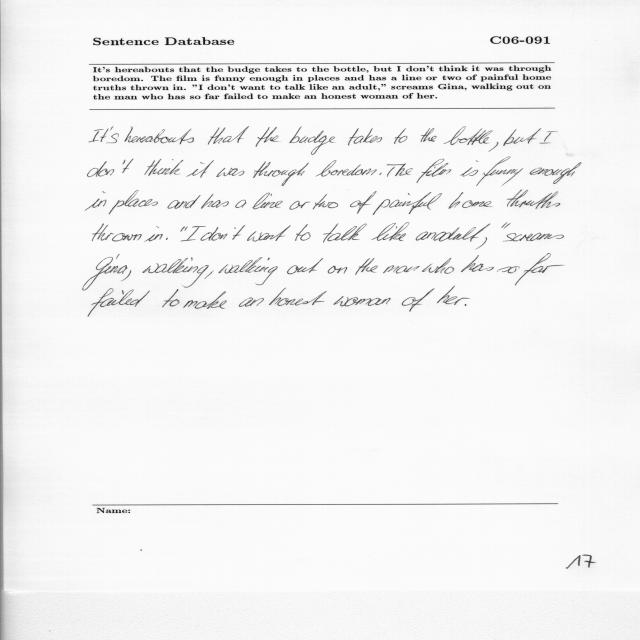word: (142, 258, 278, 288), (88, 288, 150, 317), (83, 254, 128, 290), (515, 254, 565, 286), (373, 192, 442, 215), (253, 161, 309, 186), (476, 157, 523, 186), (289, 126, 335, 155), (124, 127, 194, 145), (109, 190, 158, 214), (530, 162, 581, 184), (507, 189, 560, 209), (315, 160, 377, 177), (269, 288, 327, 306), (434, 224, 491, 242), (444, 126, 493, 145), (92, 224, 142, 242), (417, 159, 452, 183), (323, 224, 367, 243), (88, 159, 134, 177), (183, 291, 227, 309), (402, 288, 435, 312), (208, 126, 249, 145), (449, 192, 493, 209), (247, 225, 291, 242), (371, 222, 409, 241), (201, 225, 245, 241), (503, 128, 541, 146), (145, 159, 184, 176), (437, 286, 470, 305), (350, 191, 377, 214), (333, 296, 391, 306), (348, 128, 382, 145), (287, 258, 323, 274), (461, 255, 494, 272), (162, 287, 188, 307), (422, 258, 454, 274), (186, 160, 214, 178), (503, 233, 564, 241), (253, 193, 283, 209), (168, 195, 201, 209), (256, 127, 279, 147), (201, 194, 229, 209), (86, 192, 107, 211), (355, 258, 378, 275), (180, 226, 206, 241), (313, 194, 338, 209), (387, 163, 413, 177), (460, 161, 479, 177), (383, 266, 420, 274), (145, 226, 163, 242), (295, 224, 311, 241), (89, 129, 108, 143), (217, 168, 245, 177), (239, 297, 264, 307), (420, 128, 437, 142), (539, 132, 558, 144), (106, 127, 119, 144), (394, 128, 407, 144), (289, 201, 311, 210), (416, 232, 436, 241), (497, 267, 520, 274), (328, 266, 347, 274), (475, 238, 487, 250), (120, 270, 131, 281), (488, 142, 499, 152), (235, 200, 246, 208), (502, 222, 511, 229), (180, 227, 188, 232), (379, 172, 382, 175), (166, 238, 168, 240), (465, 304, 466, 306)
